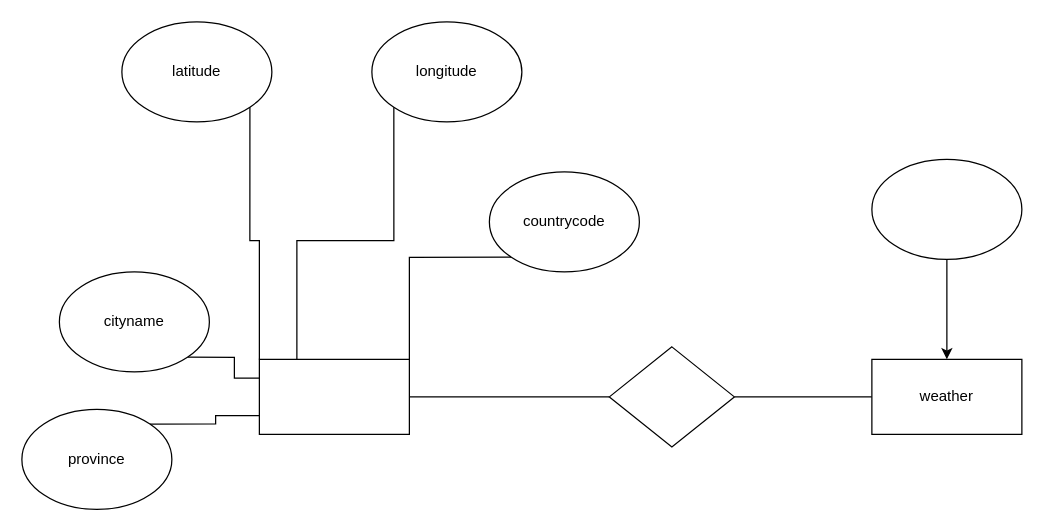
This 1044x531 diagram has some shape labels left out. Here are the shapes that lost their labels. From the top down, the box of each, then its label:
(871, 158, 1022, 259): temperature
(258, 358, 409, 434): city
(608, 346, 734, 447): has
